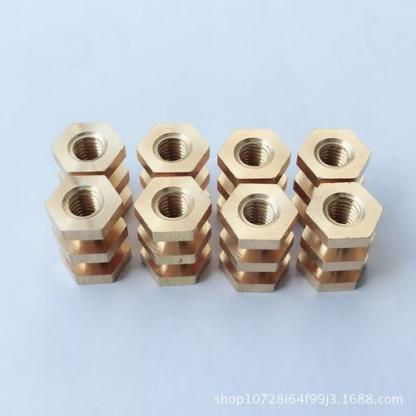FOD: (43, 174, 126, 242)
